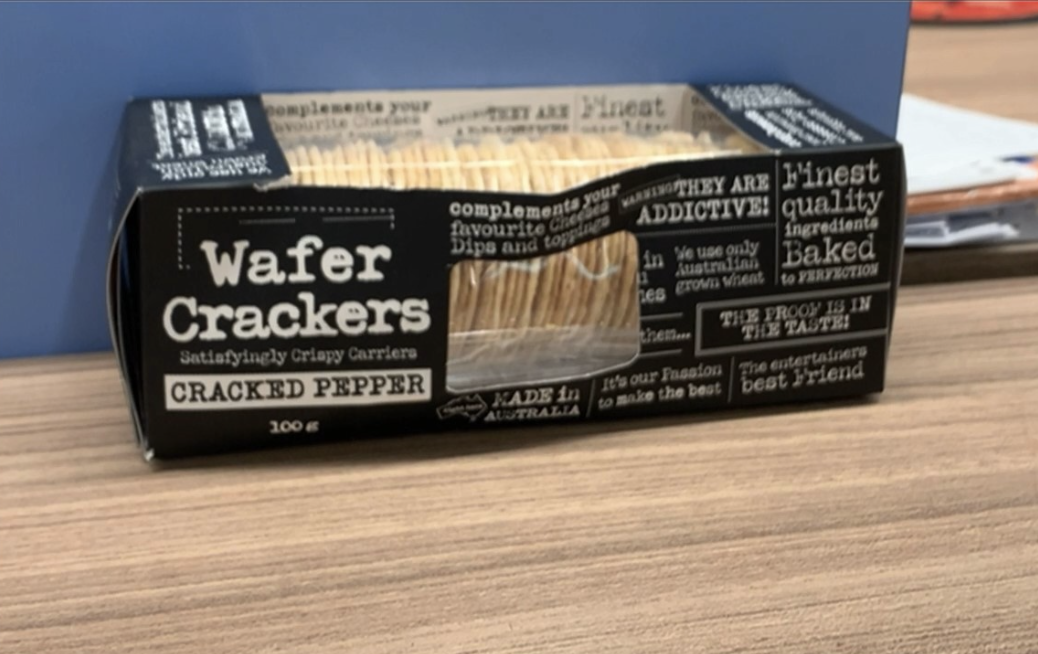crackers_150g: (158, 185, 882, 408)
